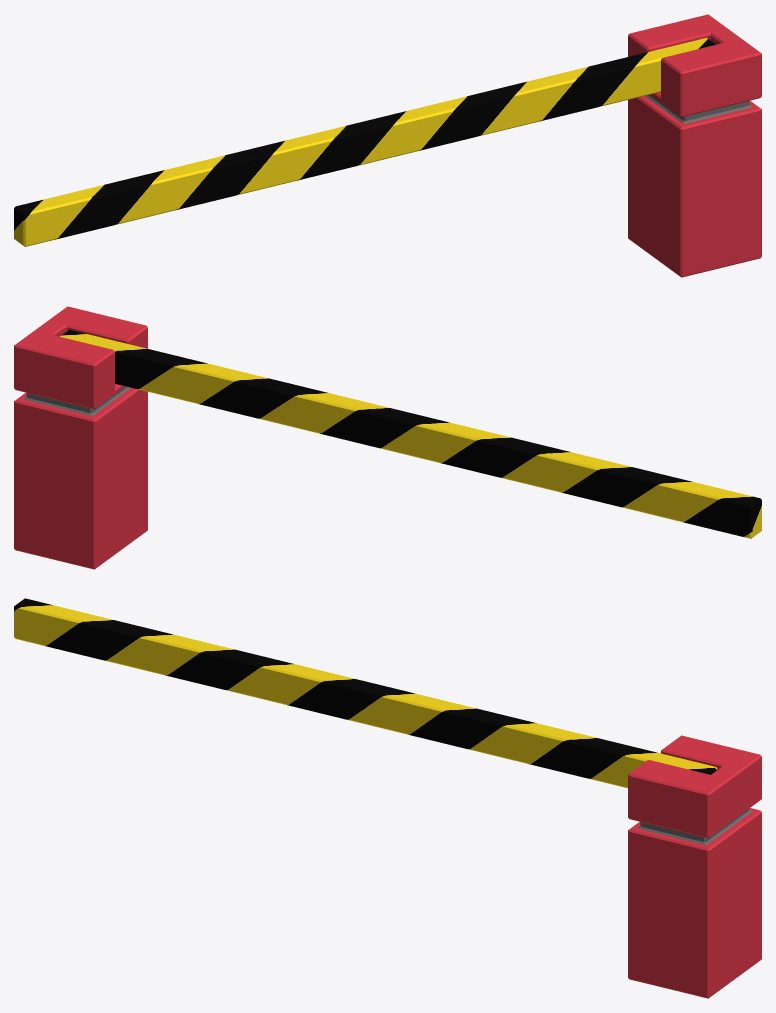
Rendered from Palang.fbx.
The picture shows the model from 3 angles, top to bottom: view 1: azimuth 30°, elevation 25°; view 2: azimuth 150°, elevation 25°; view 3: azimuth 330°, elevation 25°; orthographic projection.
Visible parts, largest first — view 1: Portal.004, Cube.008; view 2: Portal.004, Cube.008; view 3: Portal.004, Cube.008.
Part boxes in pixels (x1,y1,x2,y2): Portal.004: [628, 14, 761, 277]; Cube.008: [14, 38, 715, 246]; Portal.004: [14, 306, 147, 569]; Cube.008: [60, 329, 761, 538]; Portal.004: [628, 735, 761, 998]; Cube.008: [14, 598, 717, 788].
Size of the model in its own units: 4.44 by 1.22 by 0.5785.
3 materials, 1 textured.
